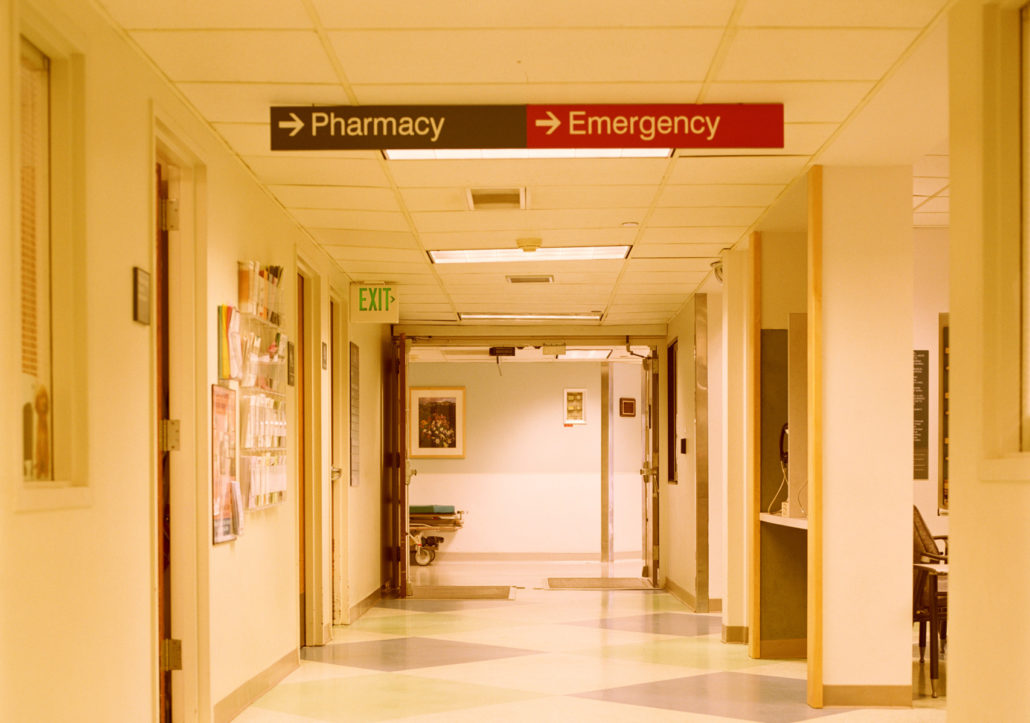chair: (899, 498, 948, 680)
door_handle: (639, 461, 654, 482), (406, 459, 417, 487), (330, 467, 343, 483)
hospital_bed: (407, 498, 466, 565)
telephone: (767, 410, 792, 521)
